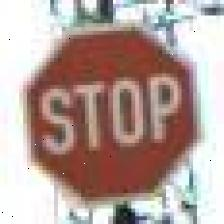Stop: (15, 27, 204, 201)
